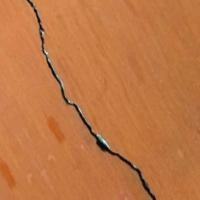crack: (22, 1, 161, 200)
